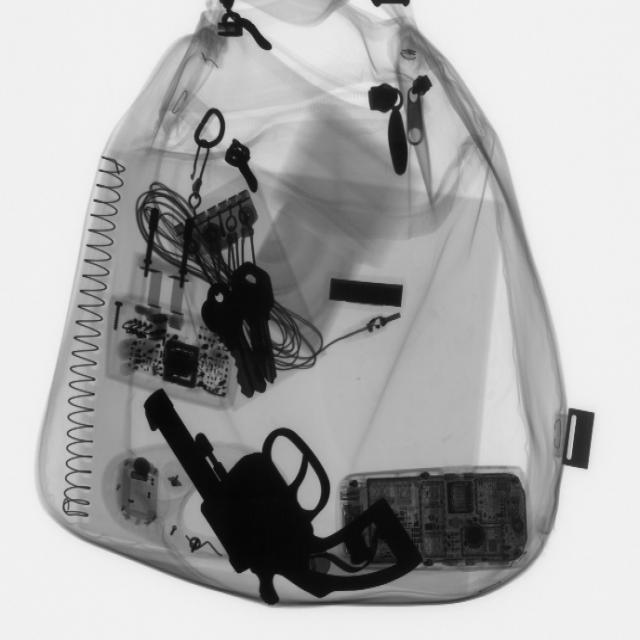GUN: (149, 377, 416, 610)
